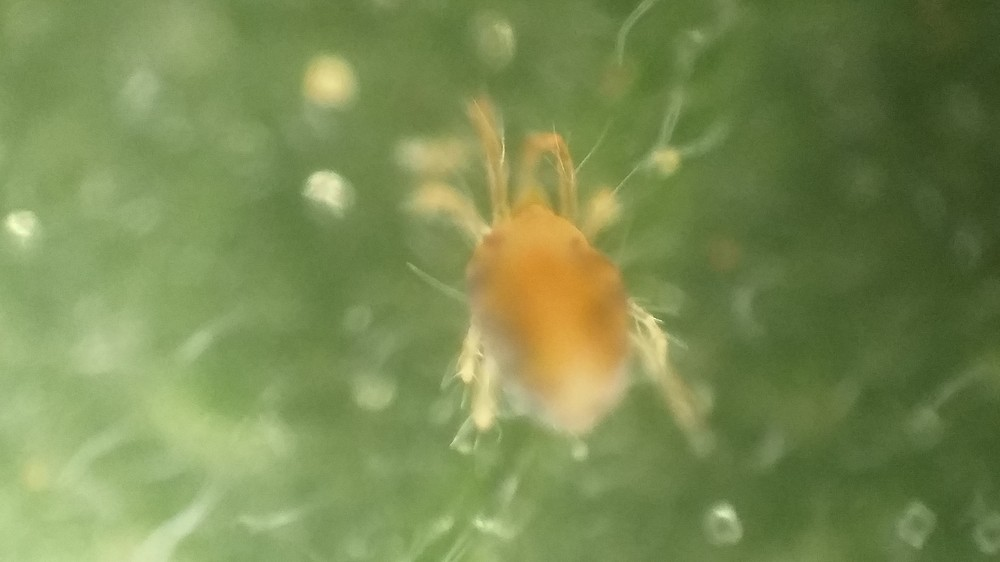Aracnido Rojo: (394, 93, 713, 464)
